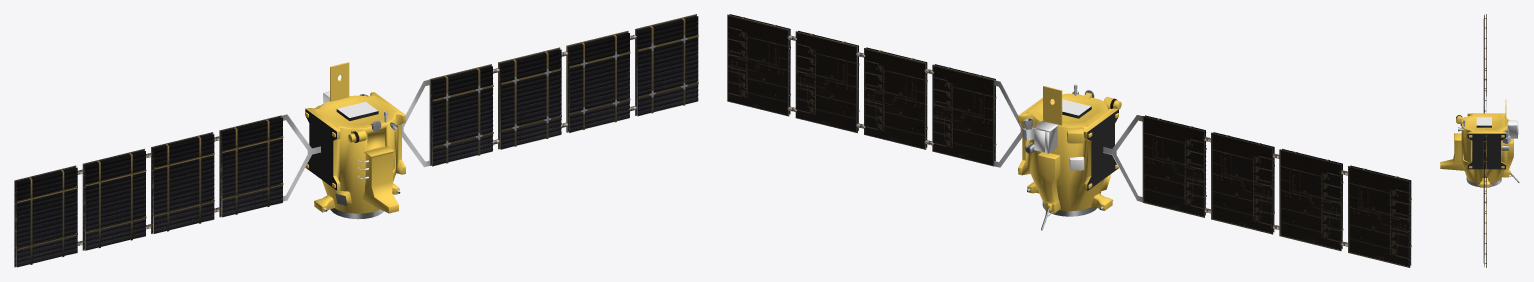
Rendered from deep_space_1.gltf.
The picture shows the model from 3 angles, left to right: view 1: azimuth 30°, elevation 25°; view 2: azimuth 150°, elevation 25°; view 3: azimuth 270°, elevation 25°; orthographic projection. The views are drawn at different scales.
Visible parts, largest first — view 1: shiny_panel, tex_01, BUS_foil_gold, black_krinkle, foil_silver; view 2: tex_01, BUS_foil_gold, black_krinkle, foil_silver, shiny_panel; view 3: BUS_foil_gold, black_krinkle, tex_01, foil_silver, shiny_panel.
Part boxes in pixels (box(x1,y1,x2,y2)): shiny_panel: box(17, 17, 698, 267); tex_01: box(14, 14, 698, 267); BUS_foil_gold: box(305, 62, 405, 213); black_krinkle: box(305, 109, 378, 190); foil_silver: box(323, 91, 377, 178); tex_01: box(727, 14, 1411, 267); BUS_foil_gold: box(1018, 86, 1121, 213); black_krinkle: box(1062, 106, 1118, 190); foil_silver: box(1033, 99, 1090, 170); shiny_panel: box(730, 14, 1410, 265); BUS_foil_gold: box(1440, 99, 1513, 187); black_krinkle: box(1467, 125, 1505, 169); tex_01: box(1456, 14, 1519, 267); foil_silver: box(1476, 117, 1518, 138); shiny_panel: box(1484, 15, 1484, 266).
Bounding box in the file's own units: 11.8 × 2.22 × 1.96.
5 materials, 2 textured.
